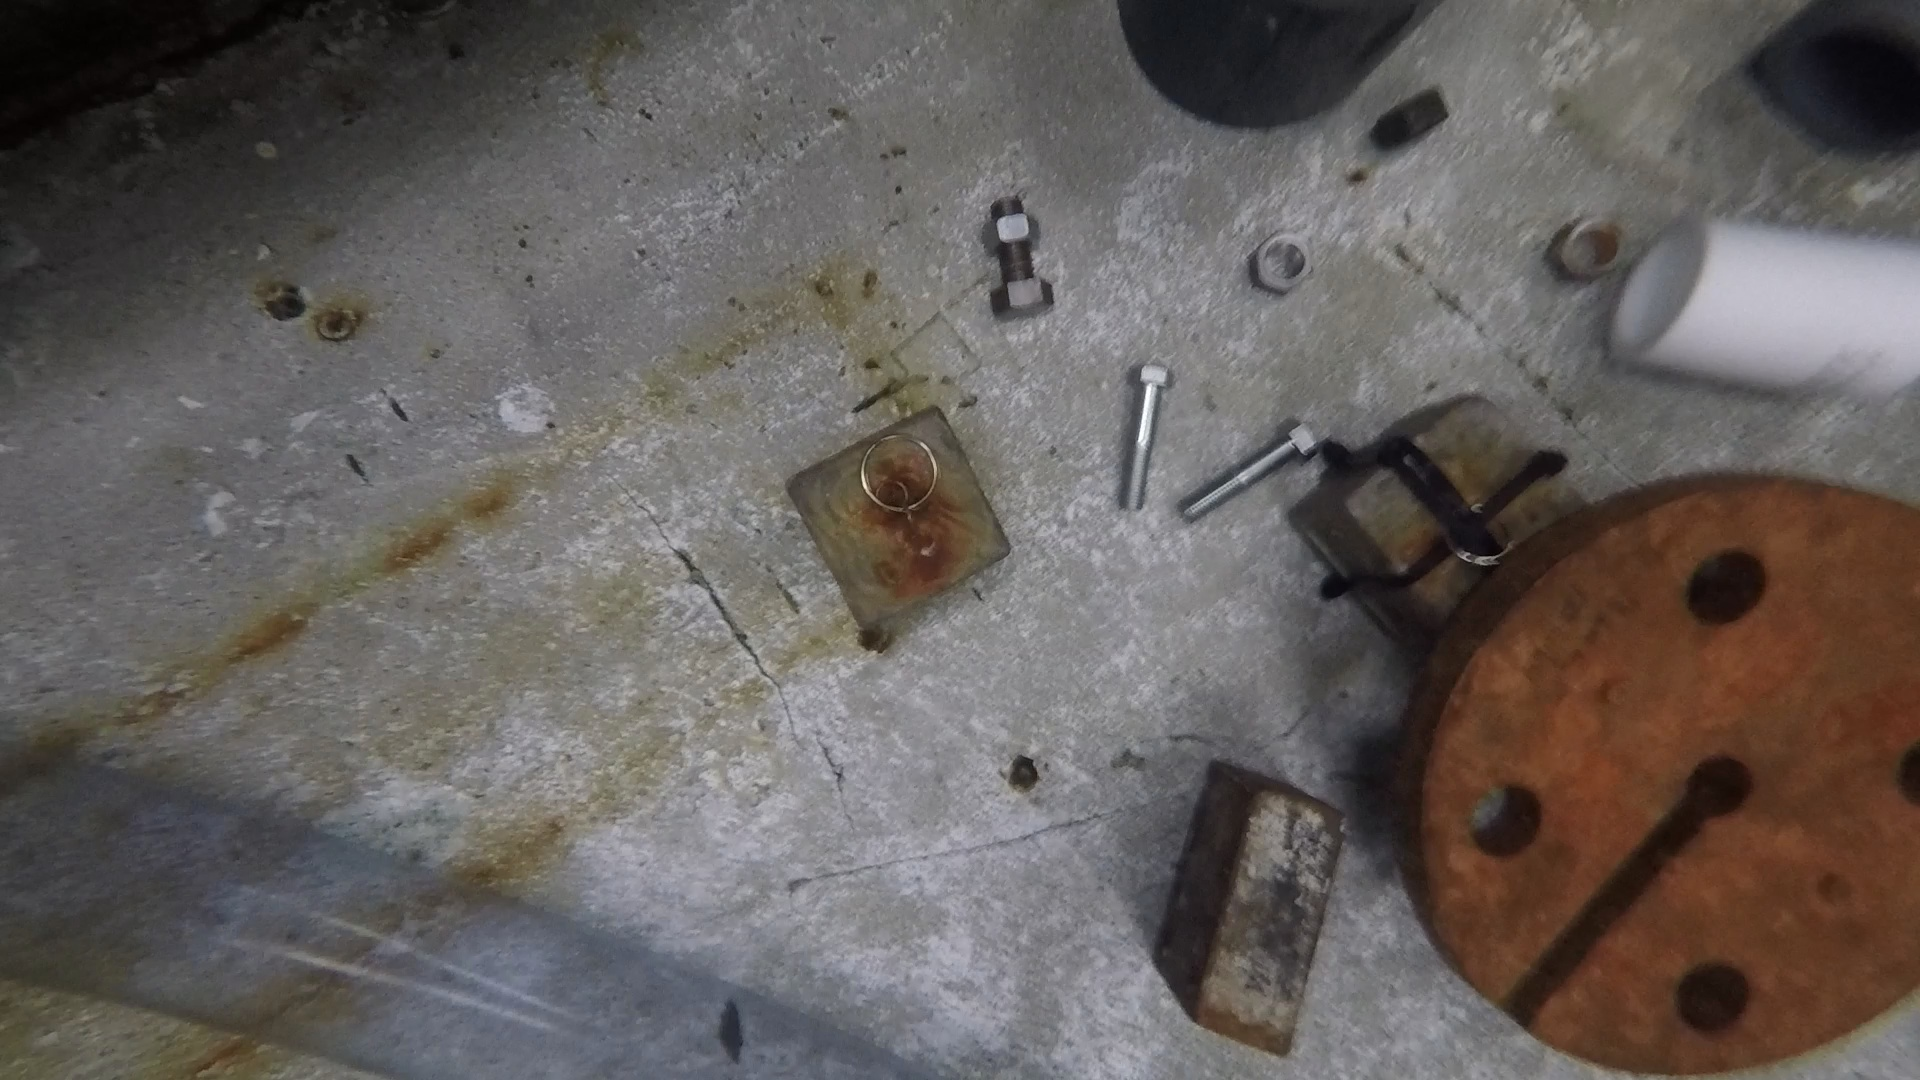bolt: (1179, 415, 1317, 524), (982, 195, 1058, 322), (1118, 356, 1176, 512)
flange: (1393, 472, 1917, 1077)
led_block: (1287, 396, 1582, 646), (1153, 760, 1350, 1056), (789, 407, 1011, 633)
nut: (1549, 215, 1625, 281), (1378, 87, 1449, 148), (1251, 227, 1313, 295), (982, 214, 1044, 247)
pipe: (1, 756, 956, 1077), (1611, 211, 1920, 393), (1116, 1, 1451, 127), (1759, 1, 1920, 156)
